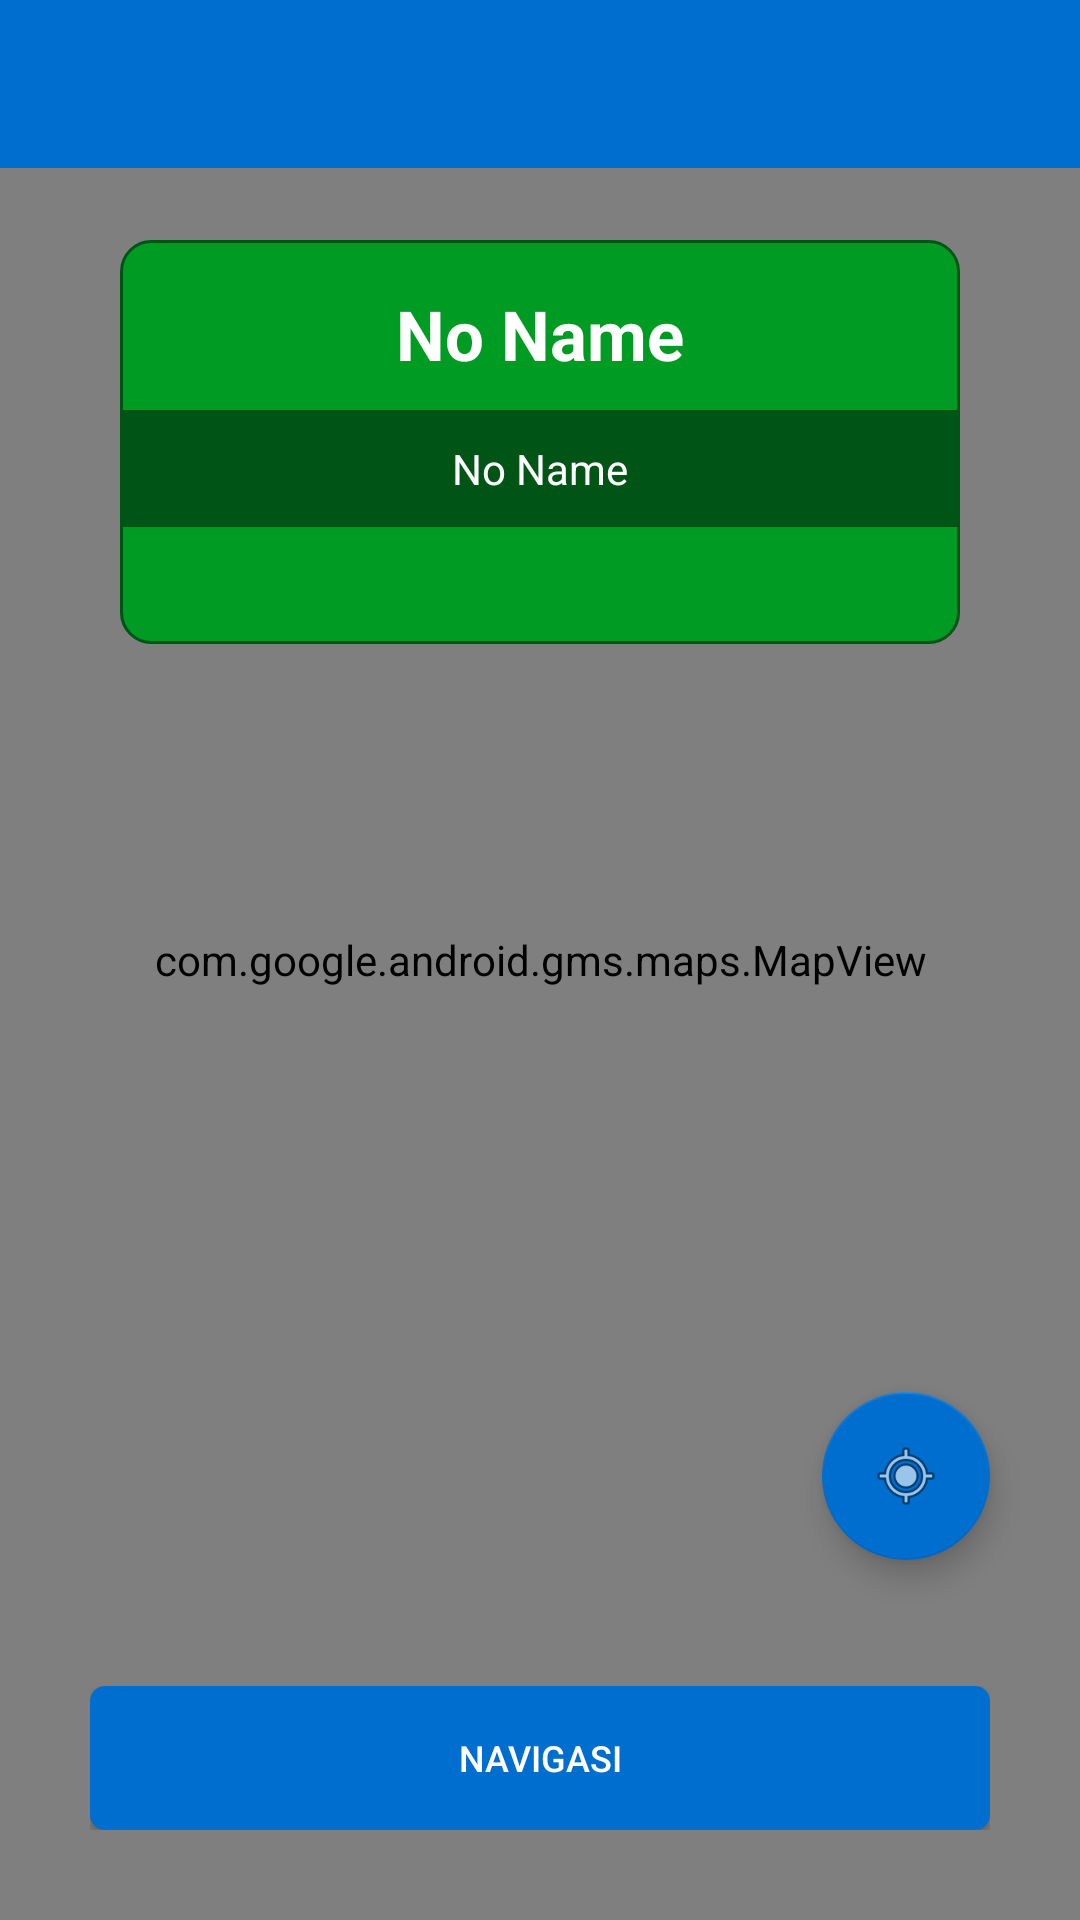

Icon click points for this 1080 × 1920 phone screenshot, format [x,y]:
mylocation: [906,1476]
